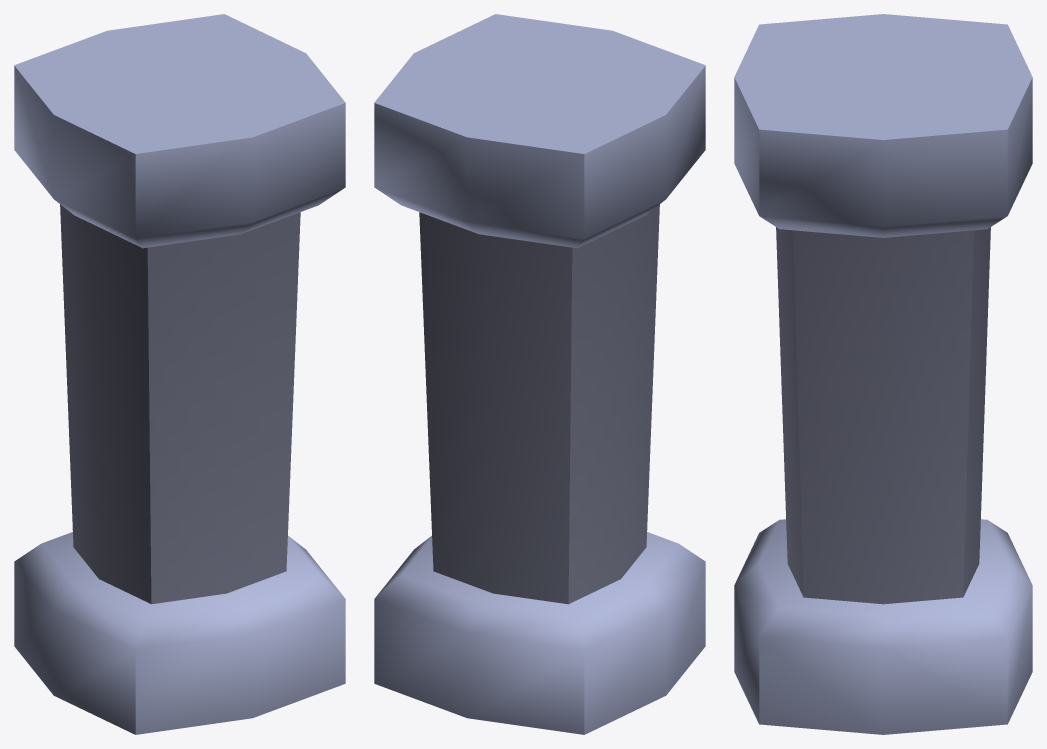
The picture shows the model from 3 angles, left to right: view 1: azimuth 30°, elevation 25°; view 2: azimuth 150°, elevation 25°; view 3: azimuth 270°, elevation 25°; orthographic projection. The views are drawn at different scales.
Parts seen in each view (by area): view 1: column; view 2: column; view 3: column.
Part boxes in pixels (bbox=[...]): column: bbox=[14, 14, 345, 734]; column: bbox=[374, 14, 705, 734]; column: bbox=[734, 14, 1032, 734].
Size of the model in its own units: 0.5 by 1.1 by 0.5.
Materials: 1 (1 with a texture image).
